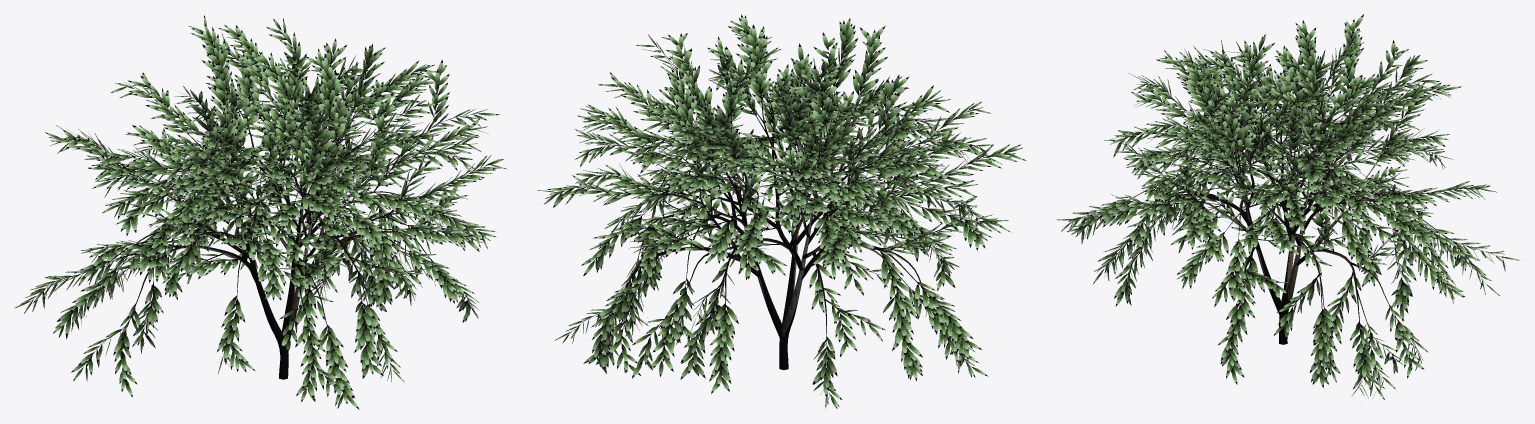
Rendered from arbol2.fbx.
3 views of the same model, side by side, from view 1: azimuth 30°, elevation 25°; view 2: azimuth 150°, elevation 25°; view 3: azimuth 270°, elevation 25° (orthographic). The views are drawn at different scales.
Visible parts, largest first — view 1: leaves, tree; view 2: leaves, tree; view 3: leaves, tree.
Boxes of the visible parts, left/top/right/bottom form: leaves: left=15, top=15, right=506, bottom=409; tree: left=32, top=31, right=486, bottom=386; leaves: left=537, top=14, right=1025, bottom=408; tree: left=566, top=41, right=989, bottom=394; leaves: left=1056, top=14, right=1519, bottom=399; tree: left=1083, top=36, right=1502, bottom=388.
Size of the model in its own units: 428 by 314 by 431.
2 materials, 2 textured.
